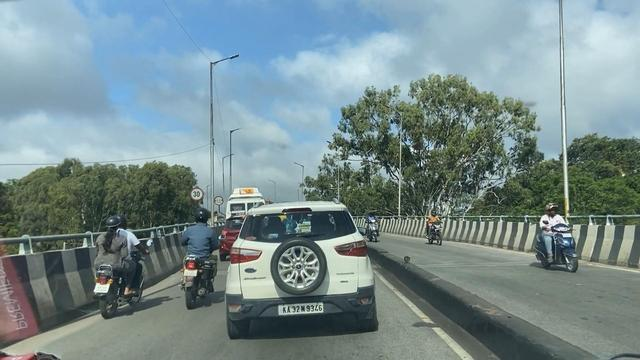LMV: (230, 204, 377, 345), (85, 205, 139, 321), (177, 203, 215, 309)
